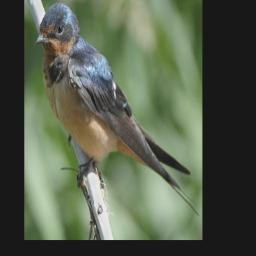Swallow: (34, 1, 200, 218)
